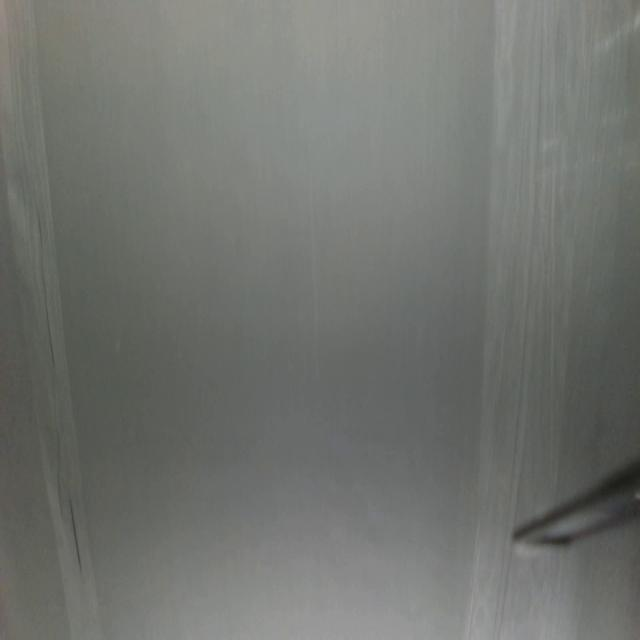crease: (0, 0, 103, 636), (478, 0, 587, 513)
